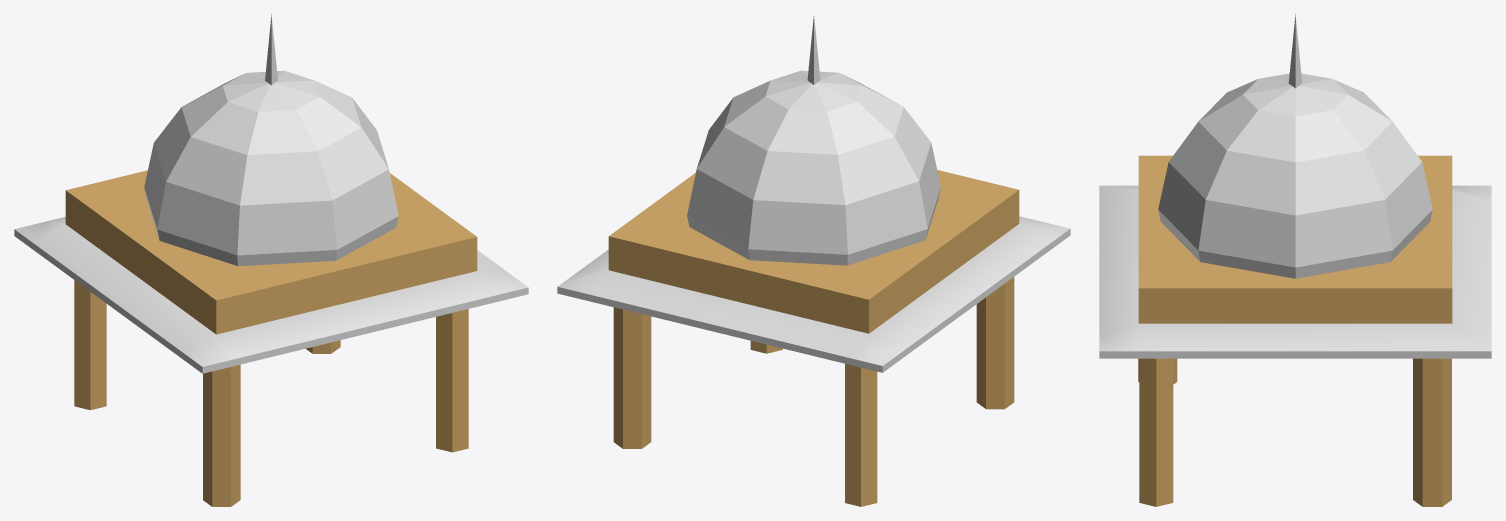
Rendered from dome.fbx.
The picture shows the model from 3 angles, left to right: view 1: azimuth 30°, elevation 25°; view 2: azimuth 150°, elevation 25°; view 3: azimuth 270°, elevation 25°; orthographic projection. The views are drawn at different scales.
Parts seen in each view (by area): view 1: polySurface1, polySurface2; view 2: polySurface1, polySurface2; view 3: polySurface1, polySurface2.
Part boxes in pixels (box(x1,y1,x2,y2)): polySurface1: box(14, 14, 528, 373); polySurface2: box(65, 170, 477, 506); polySurface1: box(557, 16, 1070, 372); polySurface2: box(608, 170, 1019, 506); polySurface1: box(1099, 14, 1491, 358); polySurface2: box(1138, 155, 1452, 506).
Size of the model in its own units: 1 by 1.2 by 1.
